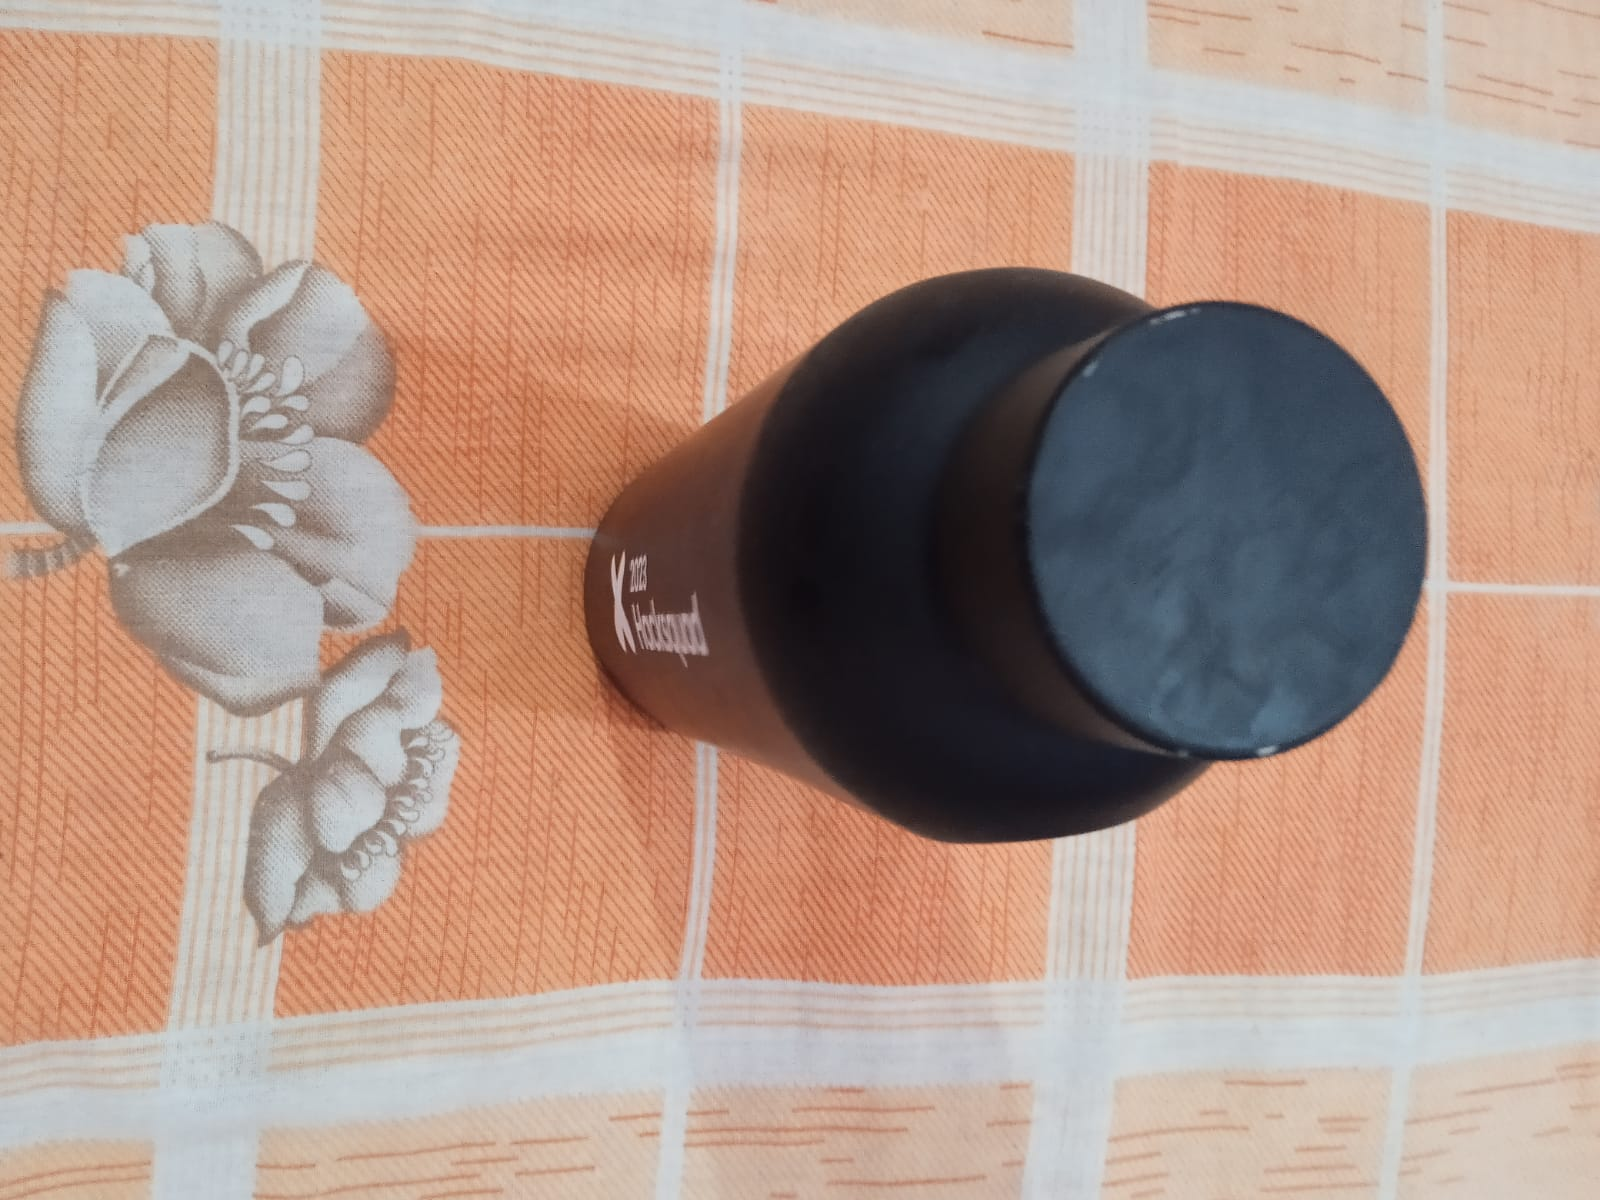bottle: (548, 185, 1417, 886)
